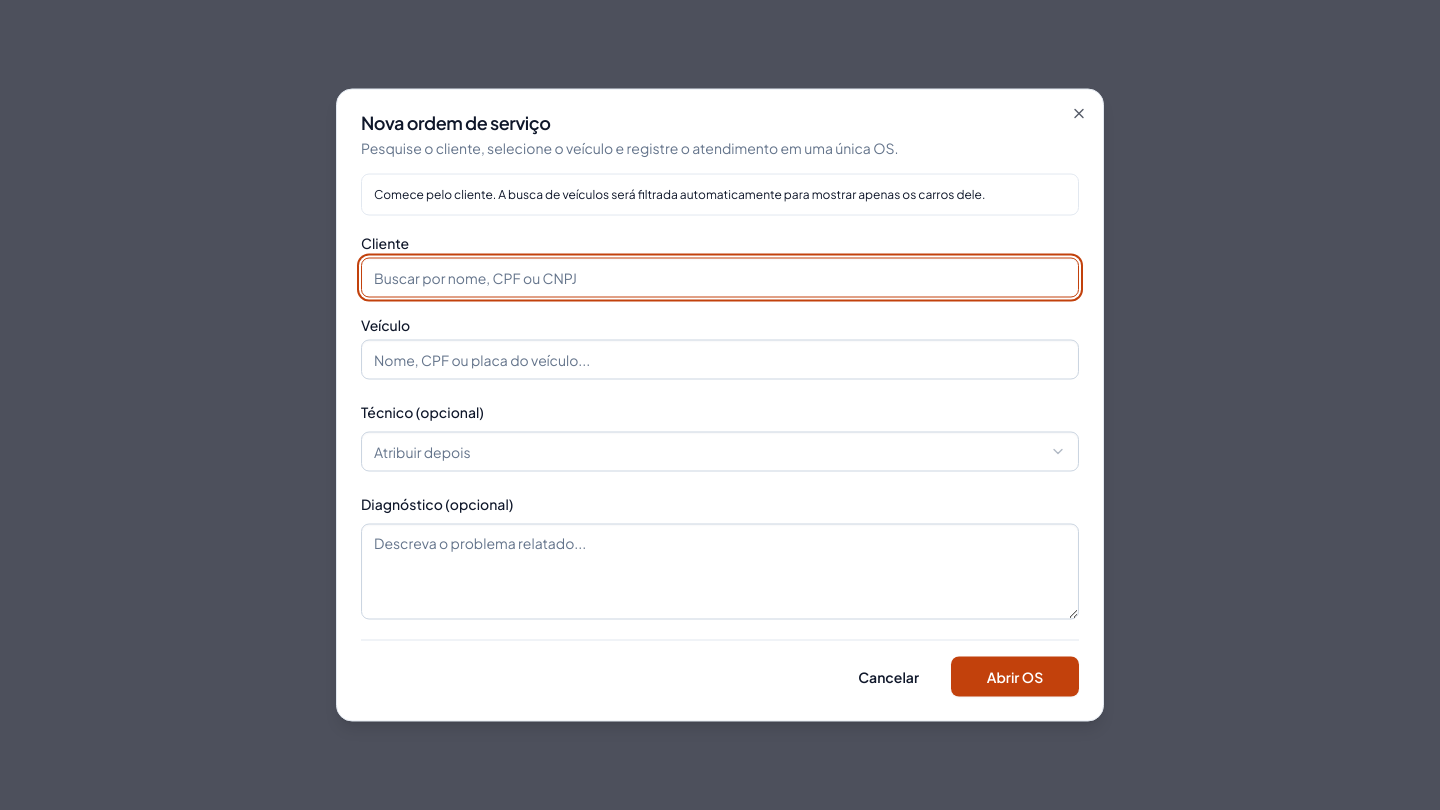
Test: ServiceOrderFormModal › shows a validation error when submitted without a vehicle
Click the button "Abrir OS".
click(1015, 676)  # box [951,656,1079,696]
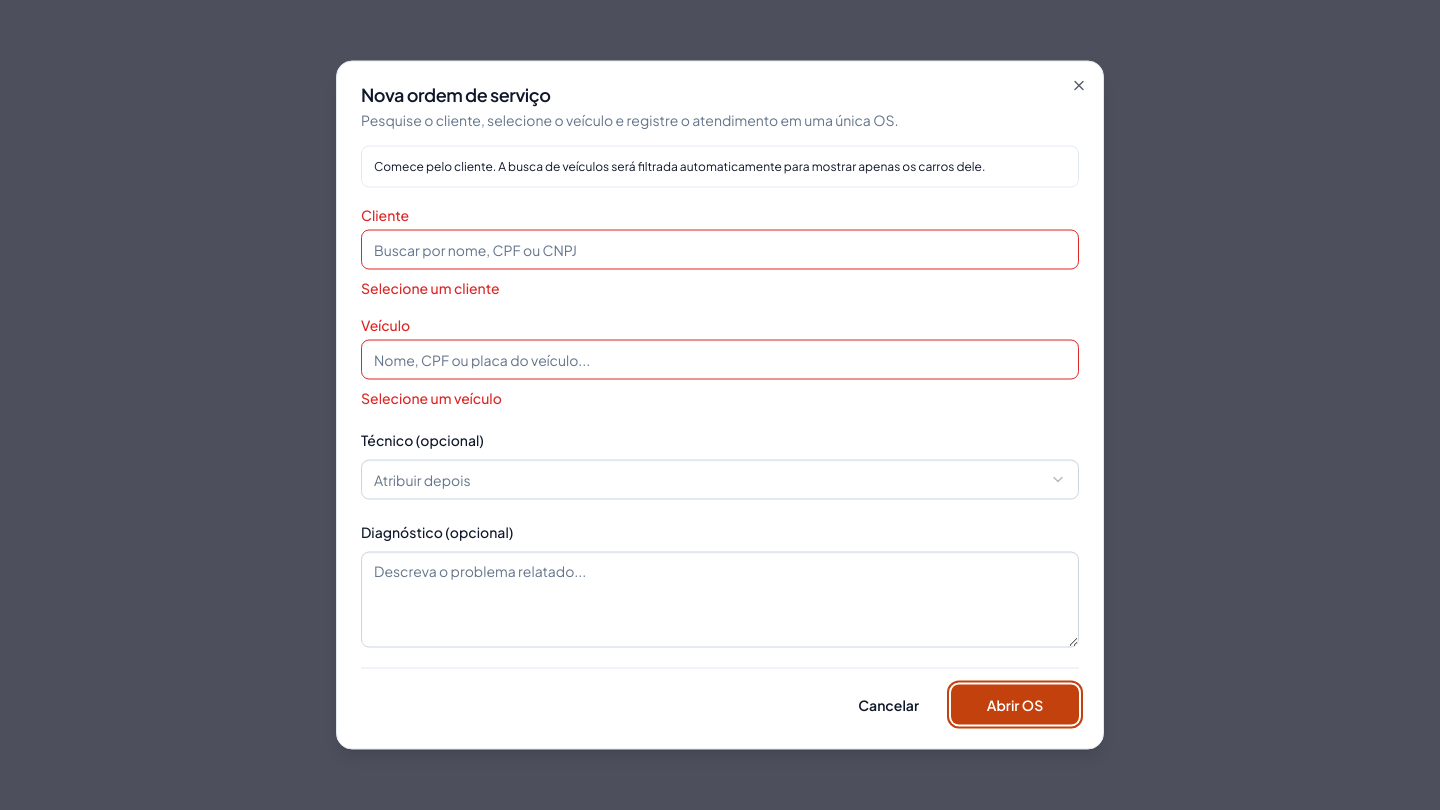
Check: the text "Selecione um veículo" is shown, box [361,388,502,406]
